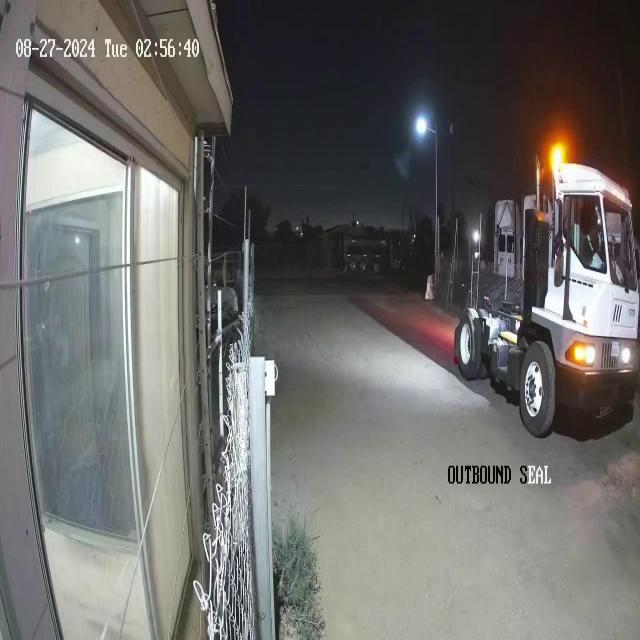TRUCK_IN: (455, 150, 639, 439)
